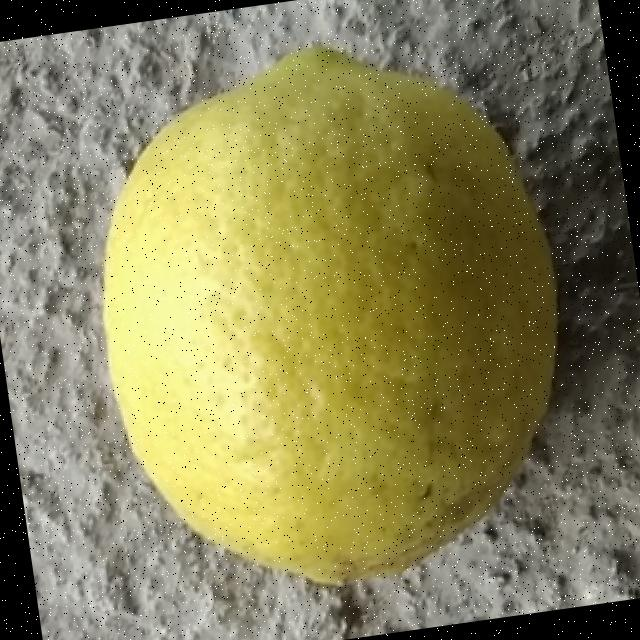Ripe: (61, 11, 598, 615)
